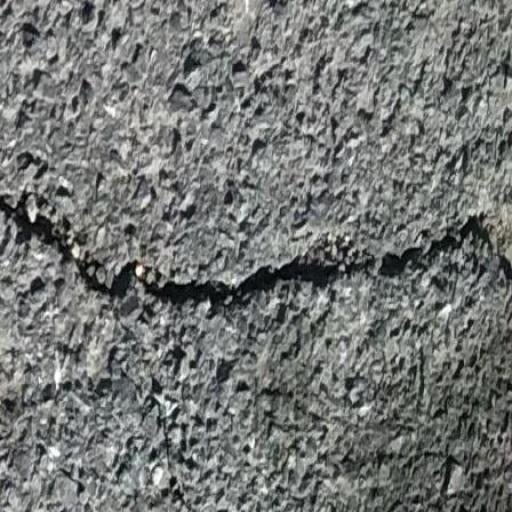spalling: (1, 183, 507, 316)
